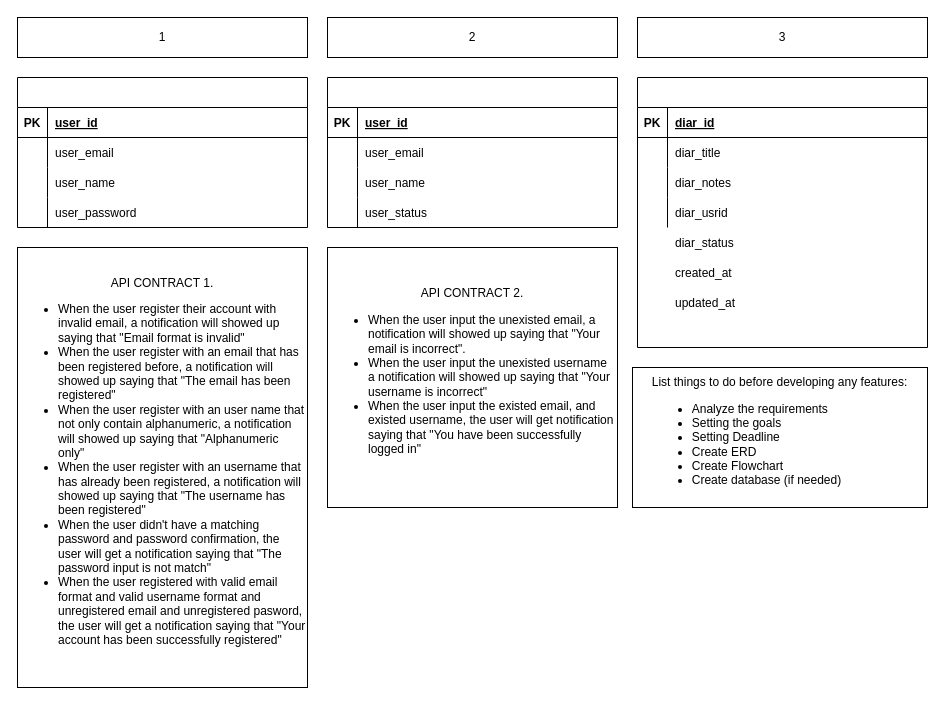
Image size: 945x705. Some labels were removed from this diagram. The shapes that lost their labels are listed below. From the top down, each one's box as (x1, y1, x2, y2) in pixels, then its label:
(16, 76, 308, 228): Users
(326, 76, 618, 228): Logged_In_Users
(636, 76, 928, 348): Diaries
